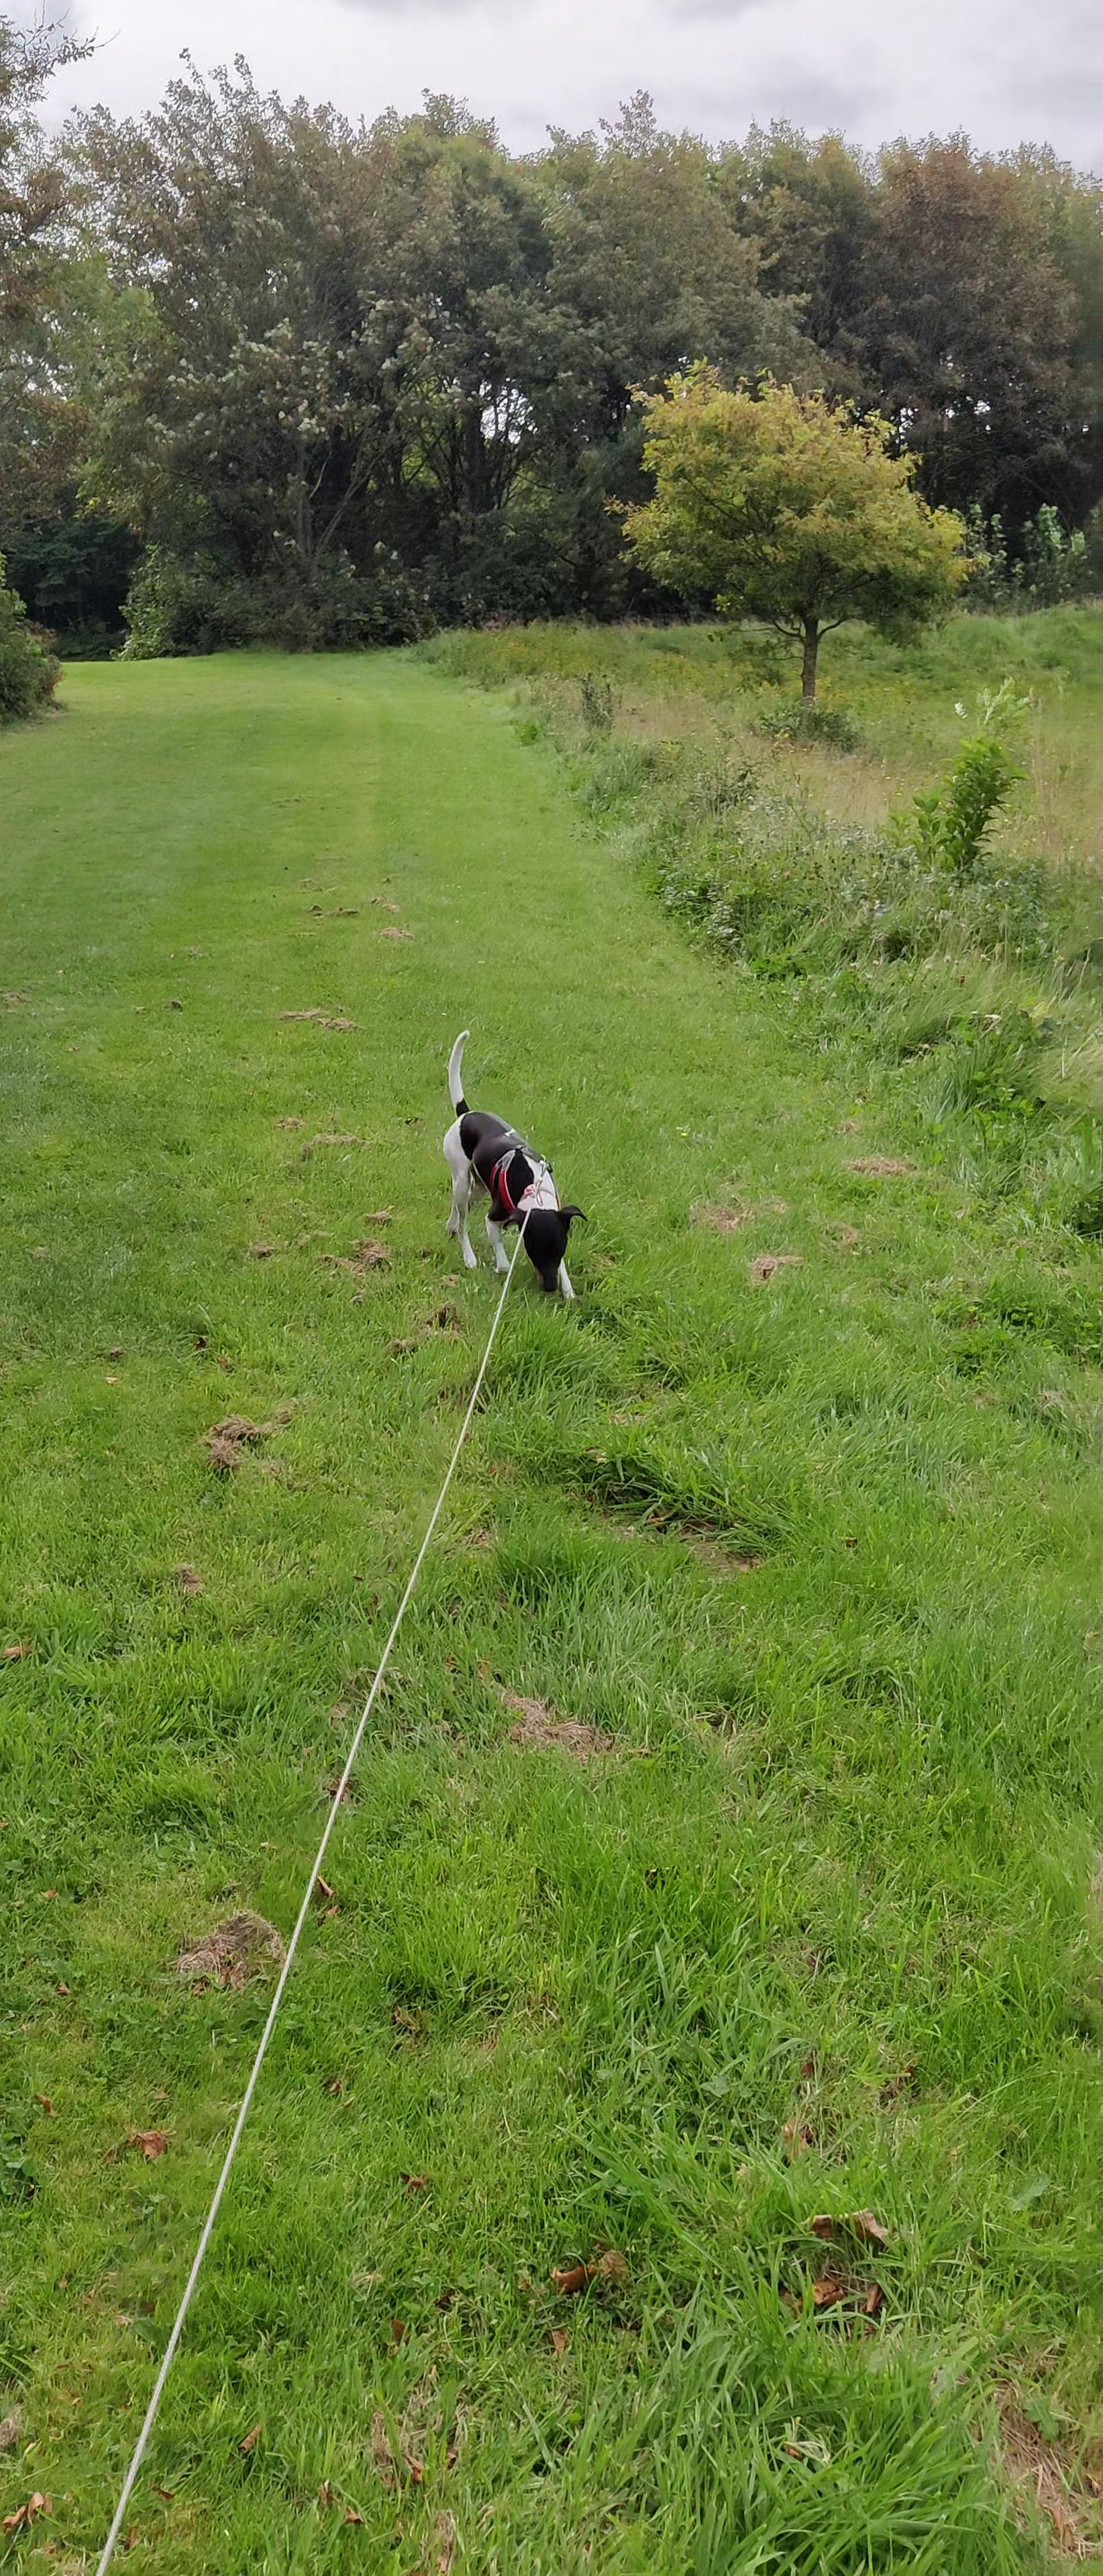Dog: (424, 1014, 597, 1308)
